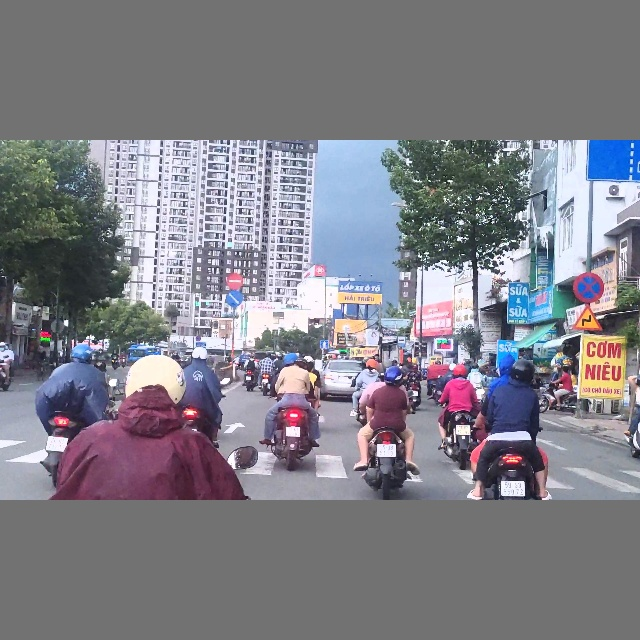I.407a: (320, 340, 328, 348)
I.434a: (397, 335, 406, 347)
P.102: (227, 273, 243, 289)
P.130: (573, 272, 605, 303)
R.302a: (225, 289, 245, 307)
W.202b: (571, 304, 604, 332)
